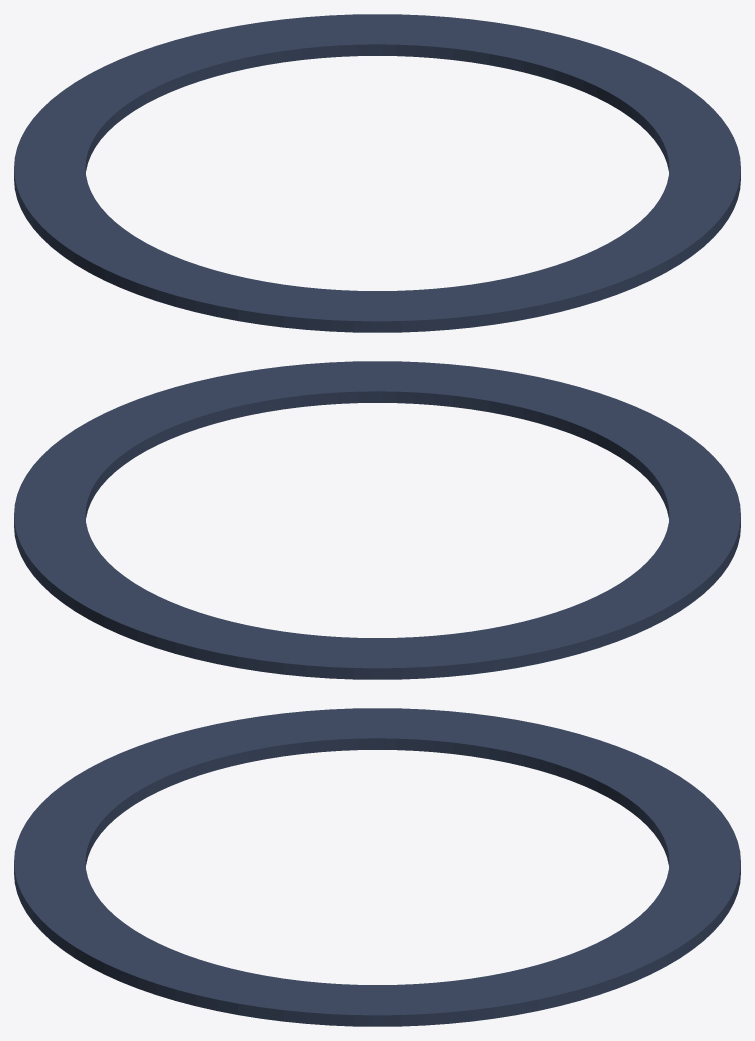
Rendered from Ring_04_Collider.fbx.
3 renders of one model, top to bottom at view 1: azimuth 30°, elevation 25°; view 2: azimuth 150°, elevation 25°; view 3: azimuth 270°, elevation 25°, orthographic.
Parts seen in each view (by area): view 1: Ring_04_Collider; view 2: Ring_04_Collider; view 3: Ring_04_Collider.
Part boxes in pixels (x1=…): Ring_04_Collider: x1=14, y1=14, x2=740, y2=332; Ring_04_Collider: x1=14, y1=361, x2=740, y2=679; Ring_04_Collider: x1=14, y1=708, x2=740, y2=1026.
Size of the model in its own units: 912 by 15.92 by 913.
